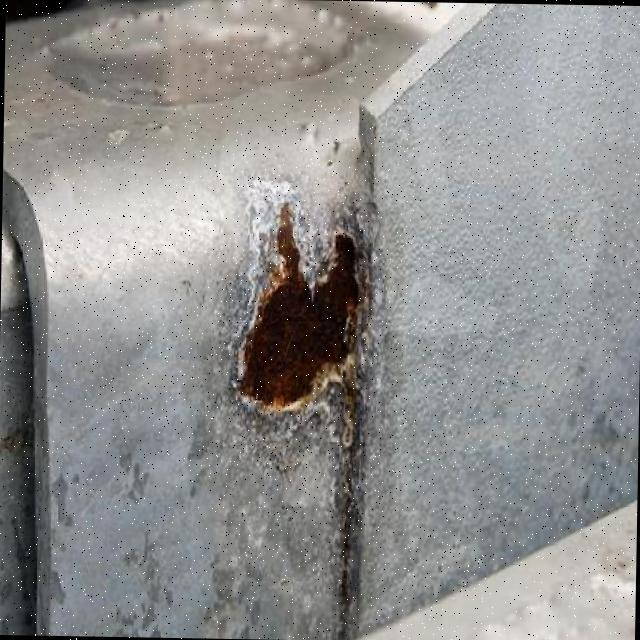Corrosion: (232, 200, 362, 412)
